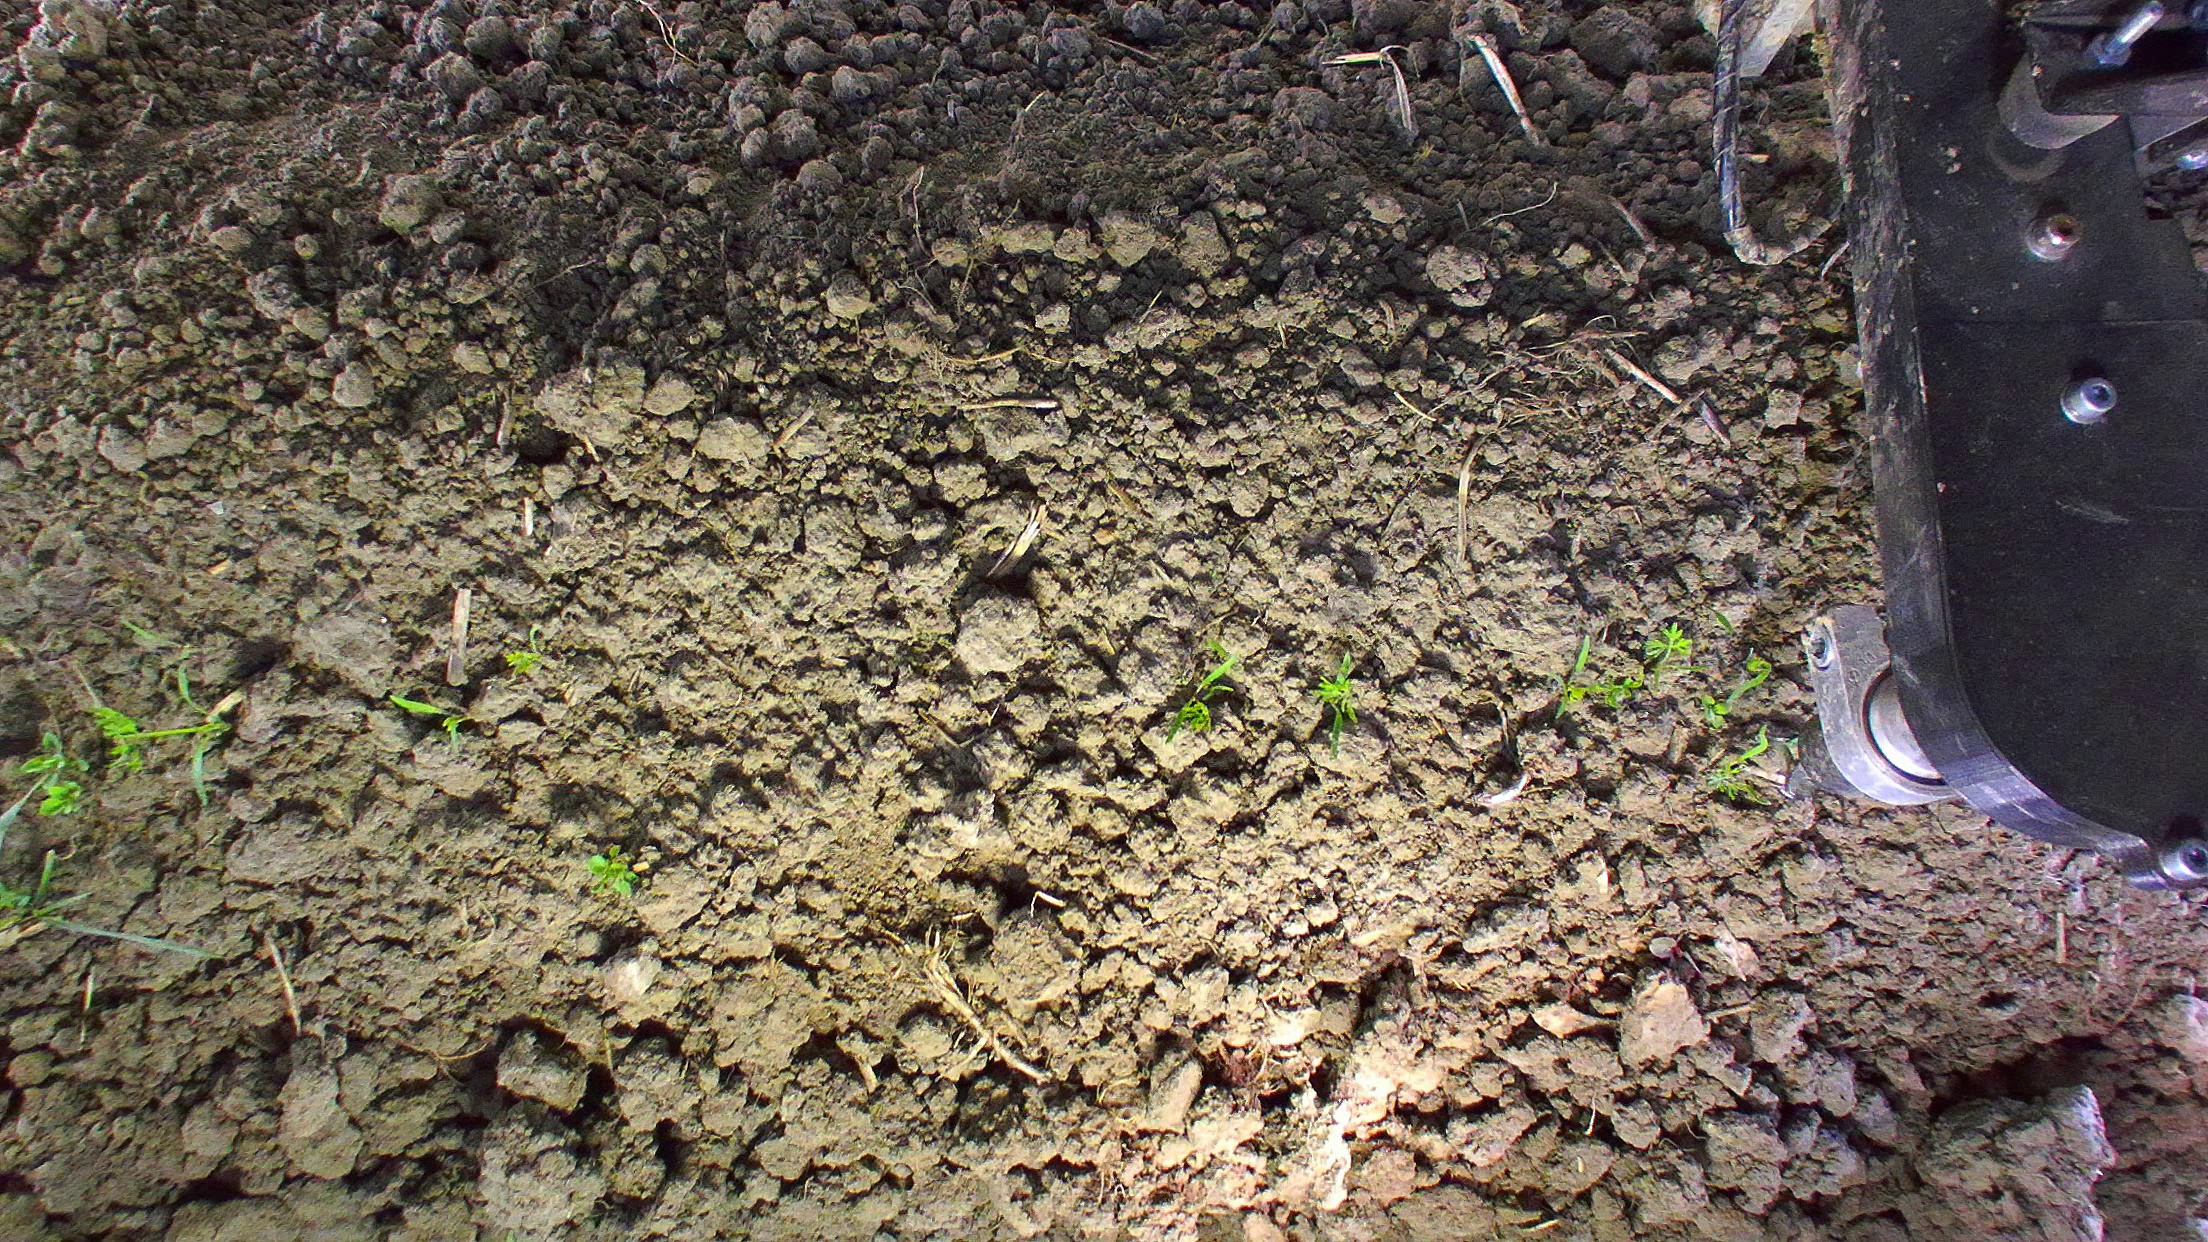Crop: (1551, 619, 1695, 720), (0, 726, 99, 858), (89, 702, 234, 781), (1163, 638, 1239, 745), (1706, 720, 1799, 805), (1695, 646, 1774, 731), (1309, 652, 1359, 754), (378, 685, 466, 742), (171, 664, 208, 717), (503, 646, 543, 675)
Weed: (0, 848, 88, 931), (582, 843, 641, 898)
